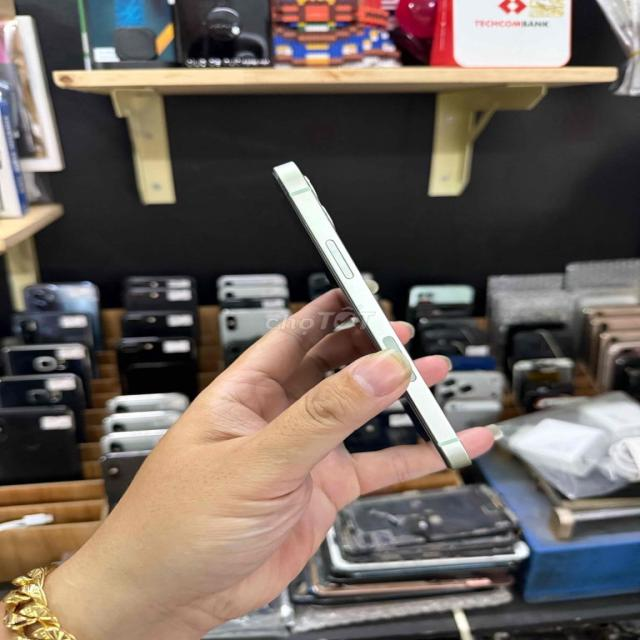gen_12_13: (268, 150, 479, 482)
